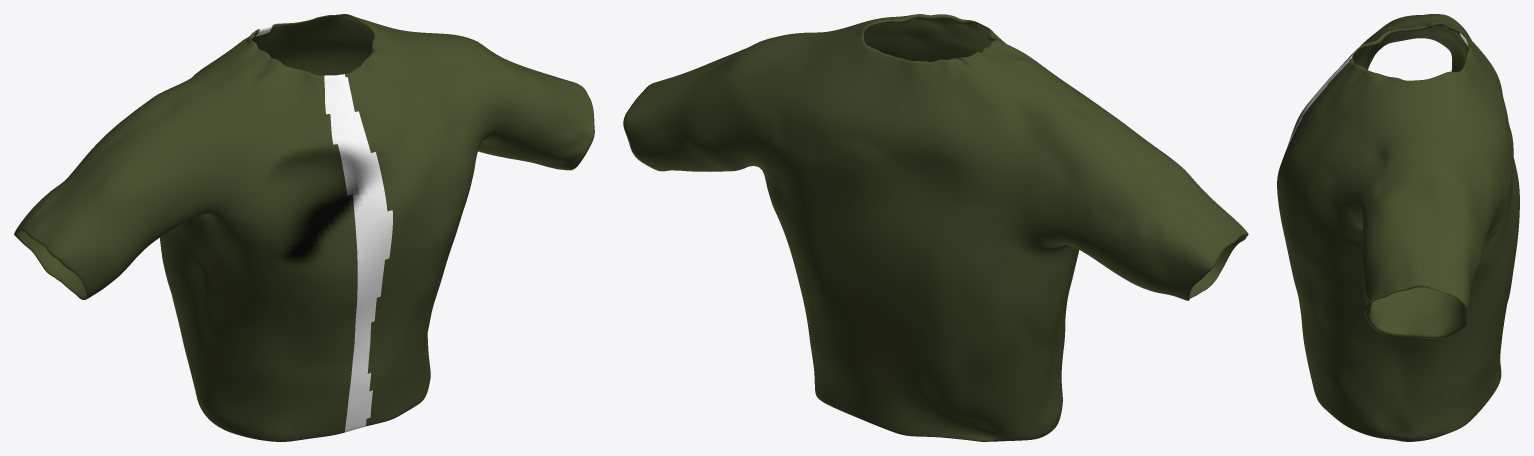
File: futbolka.fbx
3 renders of one model, left to right at view 1: azimuth 30°, elevation 25°; view 2: azimuth 150°, elevation 25°; view 3: azimuth 270°, elevation 25°, orthographic. The views are drawn at different scales.
Visible parts, largest first — view 1: Plane.005; view 2: Plane.005; view 3: Plane.005.
Boxes of the visible parts, <box> form: Plane.005: <box>14,14,594,441</box>; Plane.005: <box>623,14,1248,441</box>; Plane.005: <box>1277,14,1519,441</box>.
Bounding box in the file's own units: 84.57 × 52.4 × 33.08.
